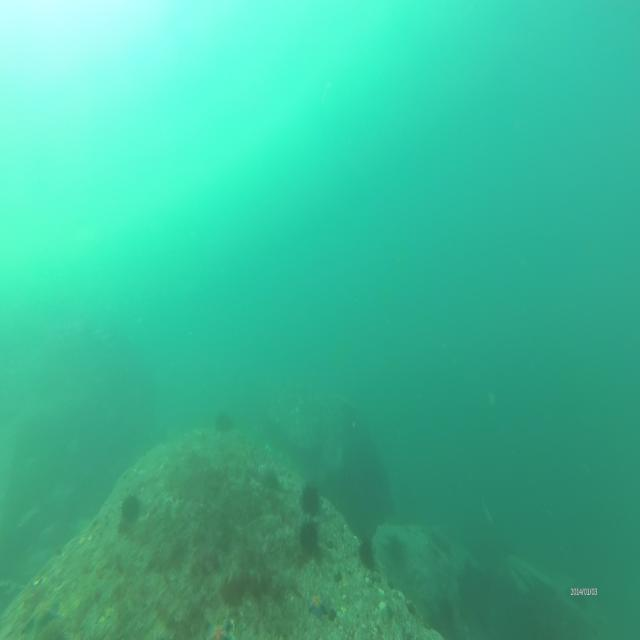echinus: (293, 511, 323, 558), (354, 530, 377, 577), (298, 480, 324, 519), (120, 491, 142, 526), (214, 406, 237, 436)
starfish: (18, 591, 61, 634), (203, 615, 239, 640), (304, 586, 330, 620)
